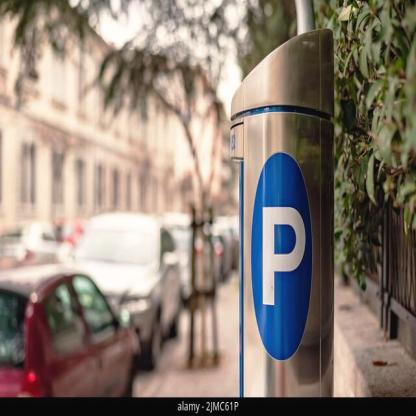Parking: (249, 147, 331, 311), (295, 297, 311, 303)
